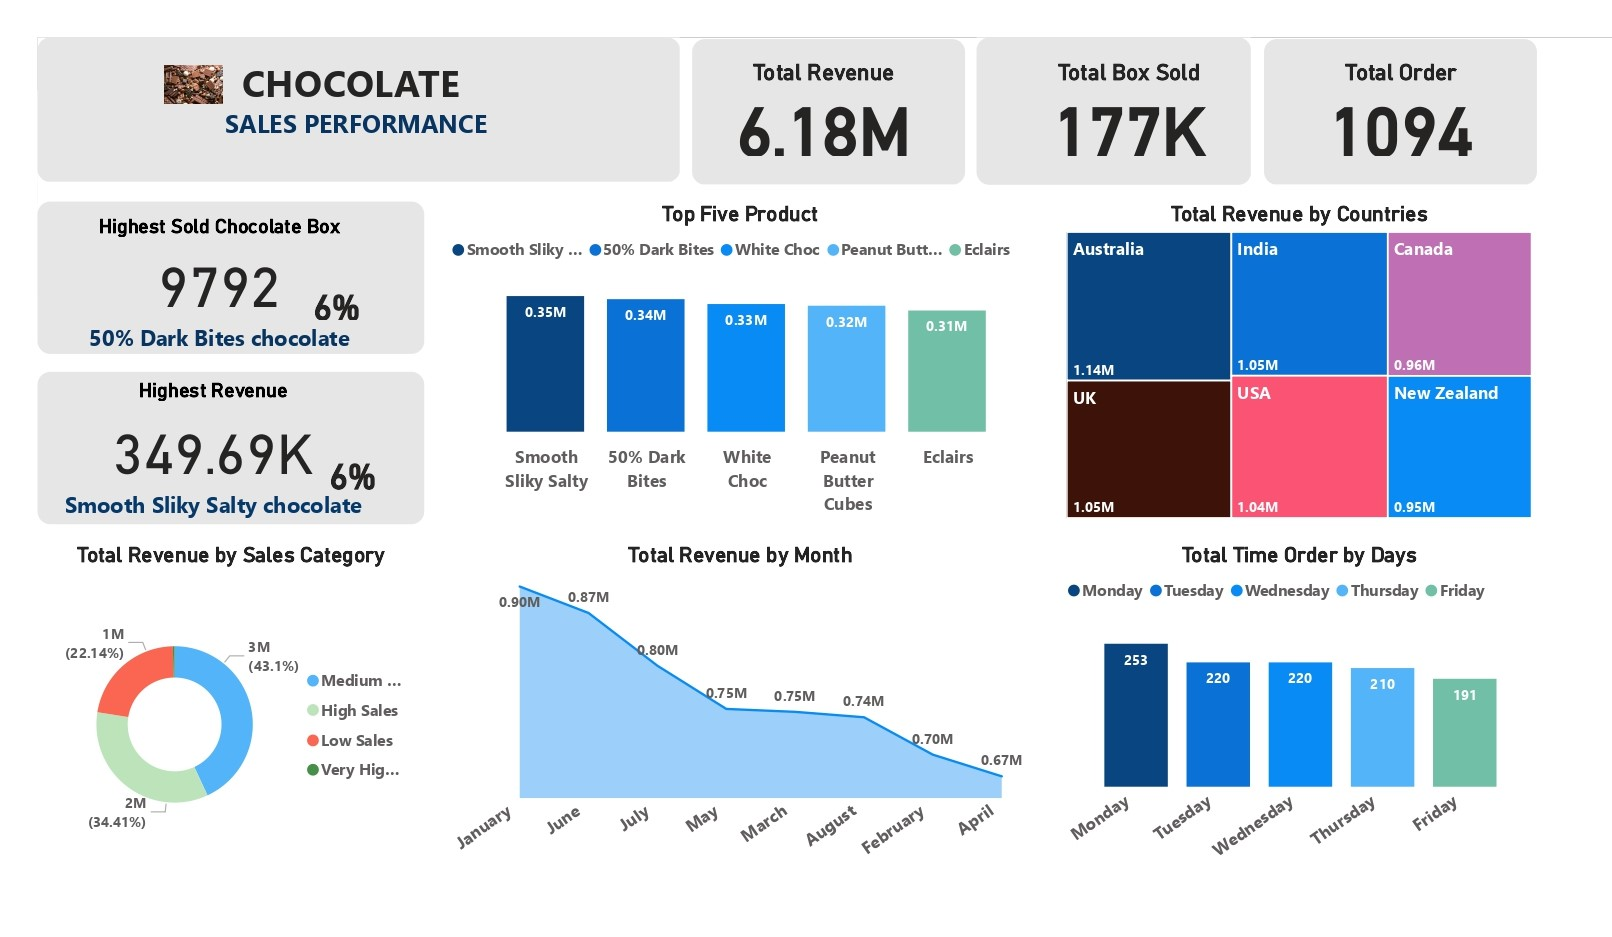

Layout of this report page (visuals, bound fields, positions):
{"tool":"powerbi","page":{"name":"Page 1","canvas":[1280,720],"ordinal":0},"visuals":[{"type":"shape","box":[0,285.7,330,130],"z":0},{"type":"shape","box":[0,0,548.3,123.3],"z":1000},{"type":"textbox","box":[34.3,10,474.3,130],"z":2000},{"type":"shape","box":[558.6,1.4,232.9,124.3],"z":3000},{"type":"card","title":"Total Revenue","fields":{"Values":["All Dax.Total Revenue"]},"box":[540,18.6,261.4,87.1],"z":4000},{"type":"shape","box":[1047.1,1.4,232.9,124.3],"z":5000},{"type":"shape","box":[801.4,0,234.3,125.7],"z":6000},{"type":"card","title":"Total Box Sold","fields":{"Values":["All Dax.Totalboxes shipped"]},"box":[801.4,18.6,260,87.1],"z":7000},{"type":"card","title":"Total Order","fields":{"Values":["All Dax.Total Time Order"]},"box":[1072.9,18.6,180,87.1],"z":8000},{"type":"lineChart","fields":{"Category":["Chocolate Sales d1.Month"],"Y":["All Dax.Total Revenue"]},"box":[348.3,430,503.3,288.3],"z":9000},{"type":"columnChart","title":"Total Time Order by Days","fields":{"Category":["Chocolate Sales d1.Day"],"Y":["All Dax.Total Time Order"],"Series":["Chocolate Sales d1.Day"]},"box":[873.3,430,406.7,290],"z":10000},{"type":"treemap","title":"Total Revenue by Countries","fields":{"Values":["All Dax.Total Revenue"],"Group":["Chocolate Sales d1.Country"]},"box":[873.3,140,406.7,275],"z":11000},{"type":"shape","box":[0,140,330,130],"z":12000},{"type":"card","title":"Highest Sold Chocolate Box","fields":{"Values":["All Dax.Totalboxes shipped"]},"box":[11.7,150,286.7,120],"z":13000},{"type":"card","title":"Highest Revenue ","fields":{"Values":["All Dax.Total Revenue"]},"box":[1.2,291.2,297.5,125],"z":14000},{"type":"donutChart","title":"Total Revenue by Sales Category","fields":{"Category":["Chocolate Sales d1.Sales Categories"],"Y":["All Dax.Total Revenue"]},"box":[0,430,330,290],"z":15000},{"type":"columnChart","title":"Top Five Product ","fields":{"Category":["Chocolate Sales d1.Product"],"Y":["All Dax.Total Revenue"],"Series":["Chocolate Sales d1.Product"]},"box":[348.6,140,502.9,275.7],"z":16000},{"type":"image","box":[91.4,18.6,81.4,42.9],"z":17000},{"type":"card","fields":{"Values":["All Dax.%50% Dark chocolate"]},"box":[210,210,88.3,35],"z":18000},{"type":"card","fields":{"Values":["All Dax.%Smooth Silky Salty"]},"box":[223.3,345,90,55],"z":19000}]}

Visuals, with their boxes on the page's 1280x720 design canvas (x1, y1, x2, y2). These are canvas units, not pixel positions in the 1612x937 screenshot, which may show the page scaled, cropped or inside an application window:
shape: {"x1": 0, "y1": 286, "x2": 330, "y2": 416}
shape: {"x1": 0, "y1": 0, "x2": 548, "y2": 123}
textbox: {"x1": 34, "y1": 10, "x2": 509, "y2": 140}
shape: {"x1": 559, "y1": 1, "x2": 792, "y2": 126}
"Total Revenue" card: {"x1": 540, "y1": 19, "x2": 801, "y2": 106}
shape: {"x1": 1047, "y1": 1, "x2": 1280, "y2": 126}
shape: {"x1": 801, "y1": 0, "x2": 1036, "y2": 126}
"Total Box Sold" card: {"x1": 801, "y1": 19, "x2": 1061, "y2": 106}
"Total Order" card: {"x1": 1073, "y1": 19, "x2": 1253, "y2": 106}
lineChart - Chocolate Sales d1.Month x All Dax.Total Revenue: {"x1": 348, "y1": 430, "x2": 852, "y2": 718}
"Total Time Order by Days" columnChart: {"x1": 873, "y1": 430, "x2": 1280, "y2": 720}
"Total Revenue by Countries" treemap: {"x1": 873, "y1": 140, "x2": 1280, "y2": 415}
shape: {"x1": 0, "y1": 140, "x2": 330, "y2": 270}
"Highest Sold Chocolate Box" card: {"x1": 12, "y1": 150, "x2": 298, "y2": 270}
"Highest Revenue " card: {"x1": 1, "y1": 291, "x2": 299, "y2": 416}
"Total Revenue by Sales Category" donutChart: {"x1": 0, "y1": 430, "x2": 330, "y2": 720}
"Top Five Product " columnChart: {"x1": 349, "y1": 140, "x2": 852, "y2": 416}
image: {"x1": 91, "y1": 19, "x2": 173, "y2": 62}
card - All Dax.%50% Dark chocolate: {"x1": 210, "y1": 210, "x2": 298, "y2": 245}
card - All Dax.%Smooth Silky Salty: {"x1": 223, "y1": 345, "x2": 313, "y2": 400}
